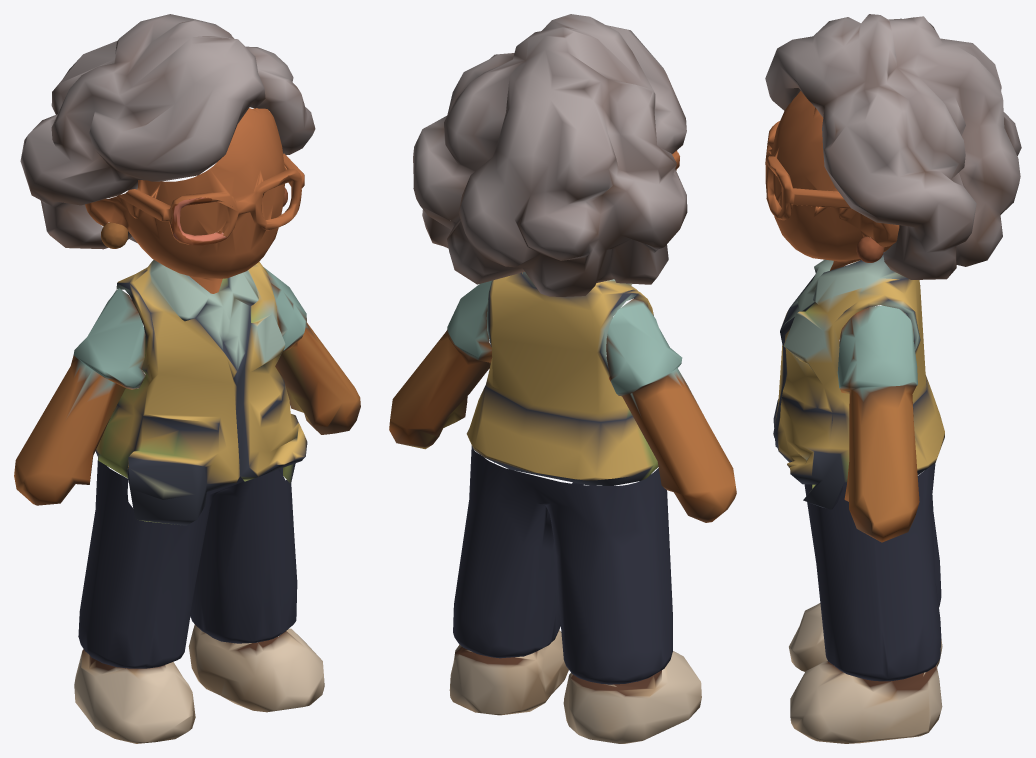
The picture shows the model from 3 angles, left to right: view 1: azimuth 30°, elevation 25°; view 2: azimuth 150°, elevation 25°; view 3: azimuth 270°, elevation 25°; orthographic projection.
Parts seen in each view (by area): view 1: hair, top, bottom, head, sleeve_r, shoe_l, shoe_r, sleeve_l, acc_head_0, acc_head_earr; view 2: hair, bottom, top, sleeve_r, sleeve_l, shoe_r, shoe_l; view 3: hair, top, bottom, sleeve_l, head, shoe_l, shoe_r, acc_head_earl.
Boxes of the visible parts, <box> form: hair: <box>20,14,315,249</box>; top: <box>95,260,307,525</box>; bottom: <box>78,458,297,668</box>; head: <box>85,108,304,293</box>; sleeve_r: <box>14,288,145,505</box>; shoe_l: <box>188,624,324,712</box>; shoe_r: <box>74,649,195,743</box>; sleeve_l: <box>263,267,360,434</box>; acc_head_0: <box>170,197,227,245</box>; acc_head_earr: <box>101,222,128,248</box>; hair: <box>413,14,687,296</box>; bottom: <box>453,445,672,684</box>; top: <box>466,272,658,485</box>; sleeve_r: <box>606,299,736,522</box>; sleeve_l: <box>389,281,492,449</box>; shoe_r: <box>563,651,701,743</box>; shoe_l: <box>449,630,568,715</box>; hair: <box>765,14,1021,279</box>; top: <box>773,252,944,509</box>; bottom: <box>804,463,941,681</box>; sleeve_l: <box>837,305,919,542</box>; head: <box>765,91,899,270</box>; shoe_l: <box>790,661,942,743</box>; shoe_r: <box>789,603,942,671</box>; acc_head_earl: <box>856,236,884,262</box>.
Size of the model in its own units: 0.5364 by 1.03 by 0.3548.
